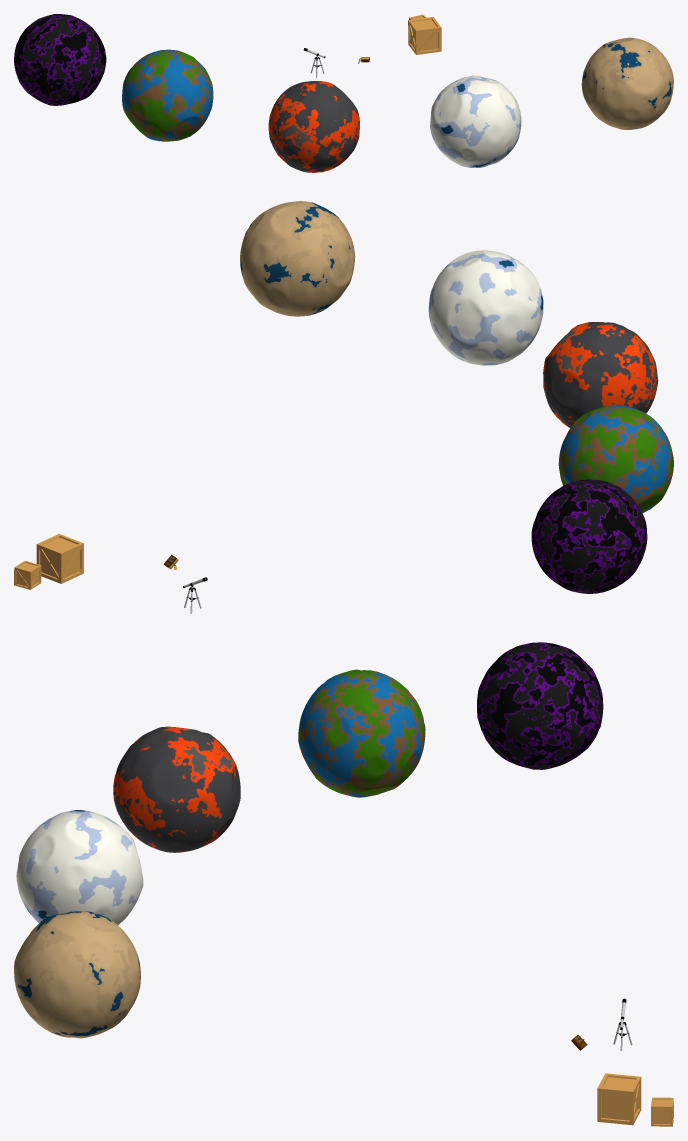
File: StorySection.glb
3 views of the same model, one above another, from view 1: azimuth 30°, elevation 25°; view 2: azimuth 150°, elevation 25°; view 3: azimuth 270°, elevation 25° (orthographic). The views are drawn at different scales.
Visible parts, largest first — view 1: SandMoon, JungleMoon, ShadowMoon, VolcanicMoon, SnowMoon, Boxes; view 2: SandMoon, SnowMoon, ShadowMoon, VolcanicMoon, JungleMoon, Boxes; view 3: JungleMoon, ShadowMoon, SandMoon, VolcanicMoon, SnowMoon, Boxes.
Boxes of the visible parts, bbox=[...] form: SandMoon: bbox=[581, 37, 673, 129]; JungleMoon: bbox=[122, 49, 213, 141]; ShadowMoon: bbox=[14, 14, 106, 105]; VolcanicMoon: bbox=[268, 81, 359, 172]; SnowMoon: bbox=[430, 75, 521, 167]; Boxes: bbox=[408, 14, 441, 54]; SandMoon: bbox=[240, 201, 355, 316]; SnowMoon: bbox=[428, 250, 543, 365]; ShadowMoon: bbox=[531, 479, 647, 593]; VolcanicMoon: bbox=[543, 322, 658, 428]; JungleMoon: bbox=[558, 405, 673, 513]; Boxes: bbox=[14, 534, 83, 589]; JungleMoon: bbox=[298, 669, 425, 797]; ShadowMoon: bbox=[477, 642, 603, 769]; SandMoon: bbox=[14, 911, 140, 1038]; VolcanicMoon: bbox=[113, 726, 240, 852]; SnowMoon: bbox=[16, 810, 143, 925]; Boxes: bbox=[597, 1073, 673, 1126].
Bounding box in the file's own units: 90.53 × 26.98 × 78.01.
13 materials, 5 textured.
